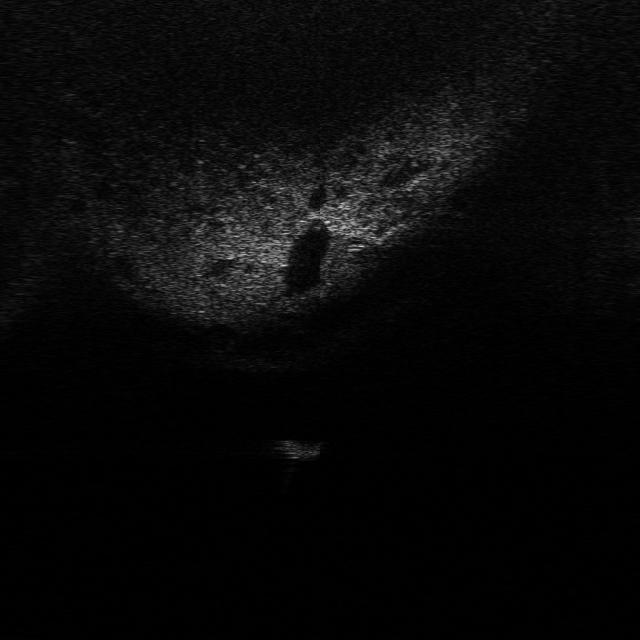cube: (270, 437, 324, 465)
